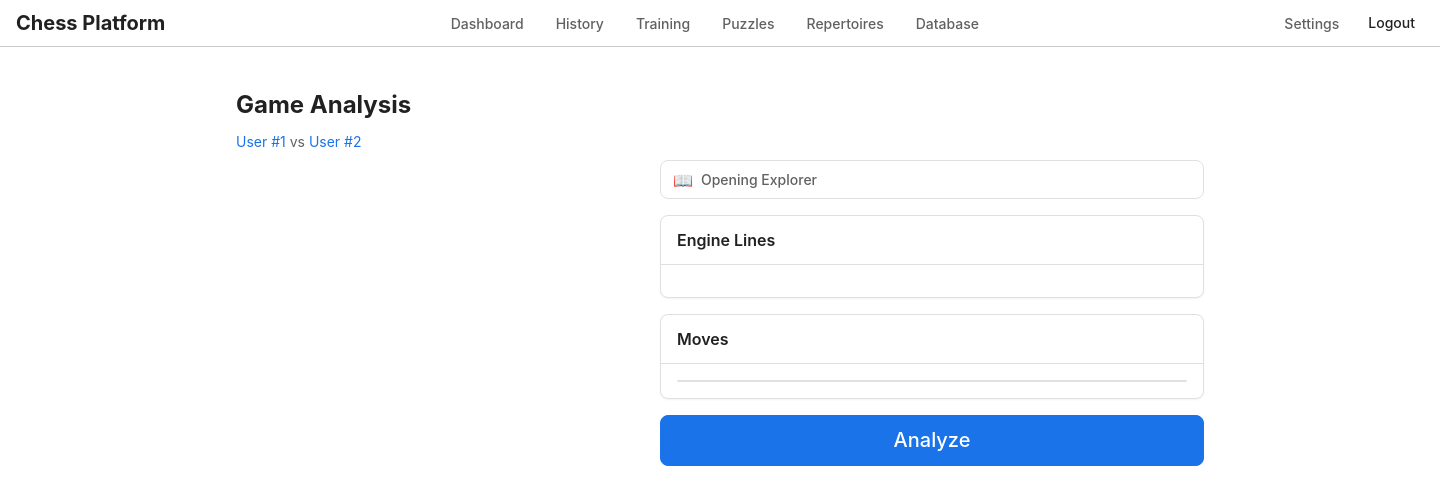
Test case: AnalysisPage › shows server analysis progress while the request is running
Click the button with test id "analyze-button".
click(932, 440)  # box [660,415,1204,466]
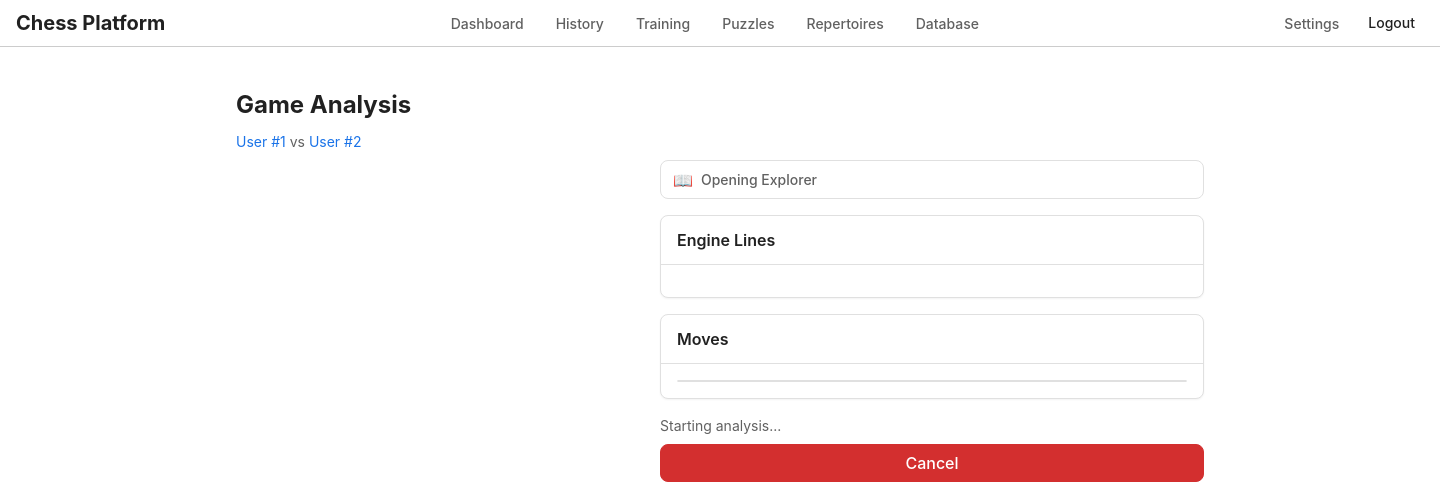
Check: the text with test id "analysis-progress" reads "Starting analysis...", box [660,417,781,434]
Check: the button with test id "analyze-button" is gone
Check: the button with test id "cancel-analysis-button" is shown, box [660,444,1204,482]
